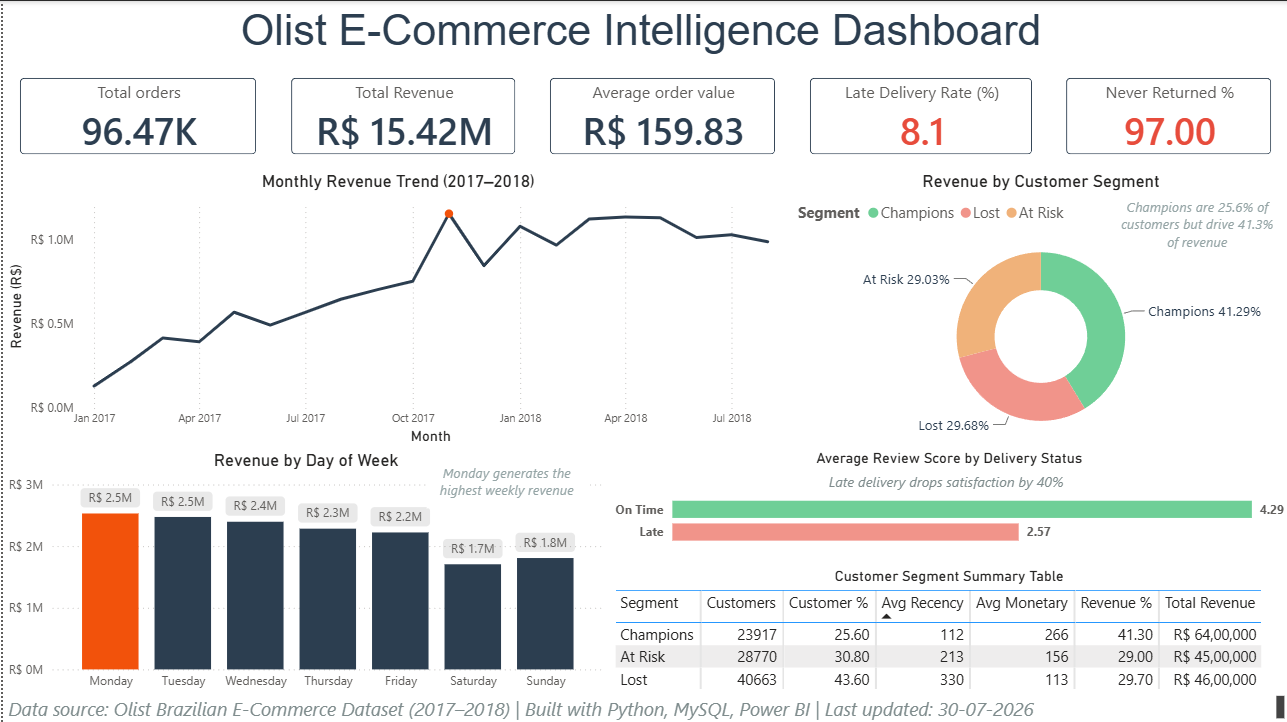

What the dashboard file says about the page in this screenshot:
{"tool":"powerbi","page":{"name":"Page 1","canvas":[1280,720],"ordinal":0},"visuals":[{"type":"textbox","box":[0,0,1270.1,59.7],"z":0},{"type":"cardVisual","fields":{"Data":["CountNonNull(orders.order_id)"]},"box":[0,59.7,269.9,110.7],"z":1000},{"type":"cardVisual","fields":{"Data":["Sum(orders.total_value)"]},"box":[270,60,257.1,110],"z":2000},{"type":"cardVisual","fields":{"Data":["orders.Never Returned %"]},"box":[1041.4,60,238.6,110],"z":3000},{"type":"cardVisual","fields":{"Data":["orders.Late Delivery Rate"]},"box":[785.7,60,255.7,110],"z":4000},{"type":"cardVisual","fields":{"Data":["Avg(orders.total_value)"]},"box":[527.1,60,258.6,110],"z":5000},{"type":"lineChart","title":"Monthly Revenue Trend (2017–2018)","fields":{"Category":["monthly_revenue.purchase_month"],"Y":["Sum(monthly_revenue.total_value)"]},"box":[0,169.2,786.2,277.4],"z":6000},{"type":"donutChart","title":"Revenue by Customer Segment","fields":{"Category":["segment_summary.Segment"],"Y":["Sum(segment_summary.total_revenue)"]},"box":[786.2,169.2,493.9,277.4],"z":7000},{"type":"barChart","title":"Average Review Score by Delivery Status","fields":{"Category":["orders.Delivery Status"],"Y":["Avg(orders.review_score)"]},"box":[603.3,446.6,676.7,116.9],"z":8000},{"type":"tableEx","title":"Customer Segment Summary Table","fields":{"Values":["segment_summary.Segment","segment_summary.customers","segment_summary.pct_customers","segment_summary.avg_recency","segment_summary.avg_monetary","segment_summary.pct_revenue","segment_summary.total_revenue"]},"box":[603.3,563.5,676.7,131.9],"z":9000},{"type":"clusteredColumnChart","title":"Revenue by Day of Week","fields":{"Category":["orders.day_of_week"],"Y":["Sum(orders.total_value)"]},"box":[0,446.6,603.3,248.8],"z":10000},{"type":"textbox","box":[0,686.7,1280,33.6],"z":11000},{"type":"textbox","box":[699.1,464,478.9,29.9],"z":11001},{"type":"textbox","box":[1107.1,190.3,163,64.7],"z":11002},{"type":"textbox","box":[421.7,455.3,159.2,49.8],"z":11003}]}

Visuals, with their boxes in screenshot pixels (x1, y1, x2, y2), scaled from the page's 1280x720 canvas onto the 1287x722 screenshot:
textbox: x1=0, y1=0, x2=1277, y2=60
cardVisual - CountNonNull(orders.order_id): x1=0, y1=60, x2=271, y2=171
cardVisual - Sum(orders.total_value): x1=271, y1=60, x2=530, y2=170
cardVisual - orders.Never Returned %: x1=1047, y1=60, x2=1286, y2=170
cardVisual - orders.Late Delivery Rate: x1=790, y1=60, x2=1047, y2=170
cardVisual - Avg(orders.total_value): x1=530, y1=60, x2=790, y2=170
"Monthly Revenue Trend (2017–2018)" lineChart: x1=0, y1=170, x2=790, y2=448
"Revenue by Customer Segment" donutChart: x1=790, y1=170, x2=1286, y2=448
"Average Review Score by Delivery Status" barChart: x1=607, y1=448, x2=1286, y2=565
"Customer Segment Summary Table" tableEx: x1=607, y1=565, x2=1286, y2=697
"Revenue by Day of Week" clusteredColumnChart: x1=0, y1=448, x2=607, y2=697
textbox: x1=0, y1=689, x2=1286, y2=721
textbox: x1=703, y1=465, x2=1184, y2=495
textbox: x1=1113, y1=191, x2=1277, y2=256
textbox: x1=424, y1=457, x2=584, y2=507
